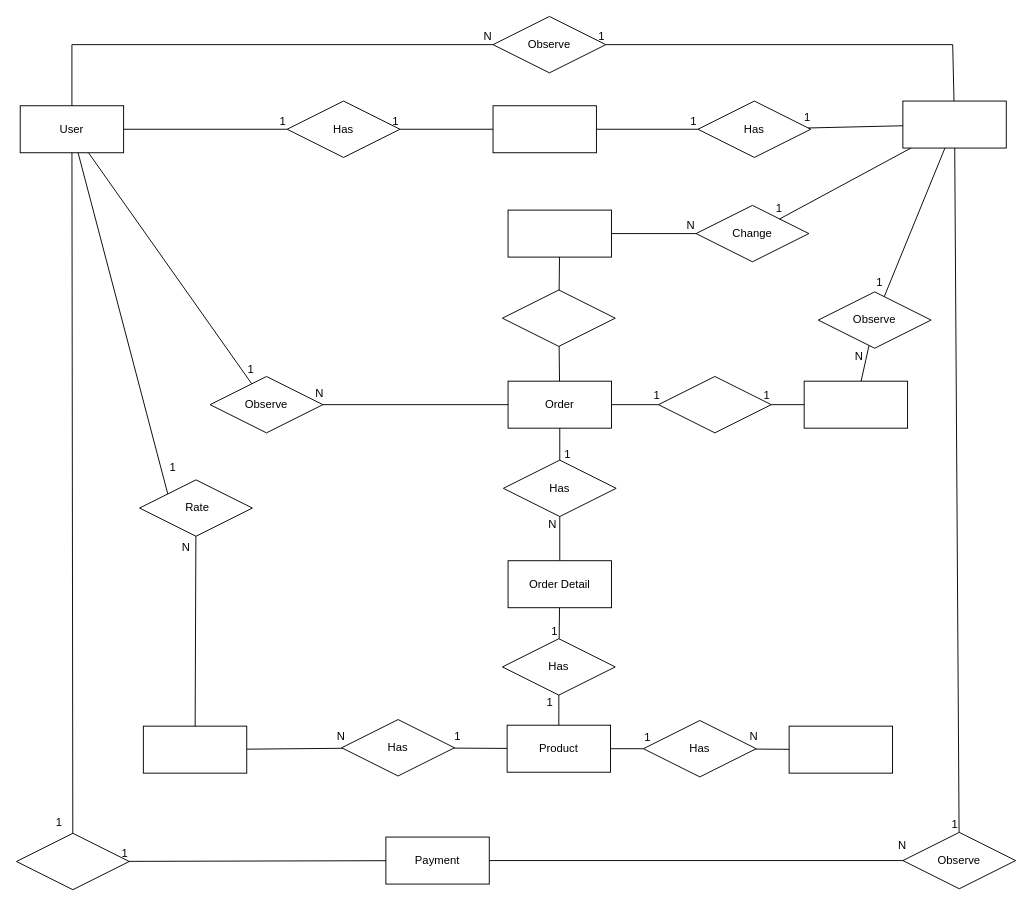
Image size: 1032x906. Some labels were removed from this diagram. The centre of each missing label's shape, as x and y in pixels:
Account: point 544,129
Admin: point 954,124
advance: point 714,404
Apply: point 558,317
Category: point 840,749
Comment: point 194,749
Delivery: point 855,404
Pay: point 72,861
Promotion: point 559,233
